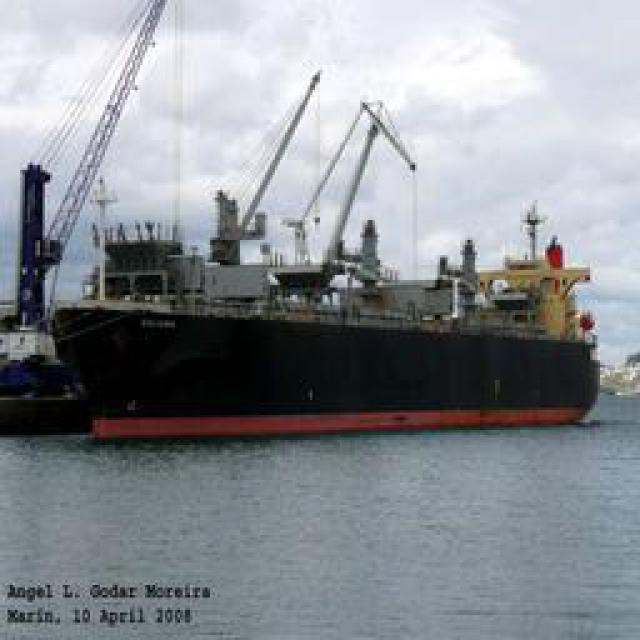Ship: (50, 198, 608, 446)
